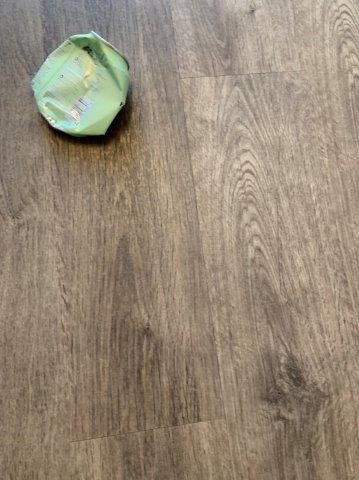kaleng: (31, 32, 128, 135)
